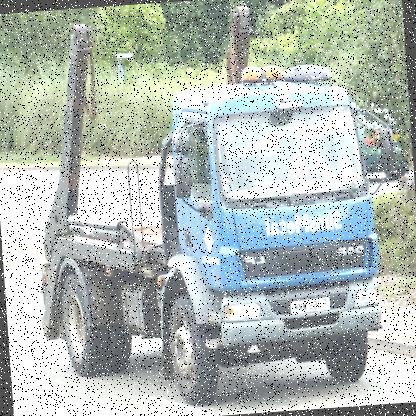Car: (354, 95, 410, 180), (246, 136, 280, 158)
